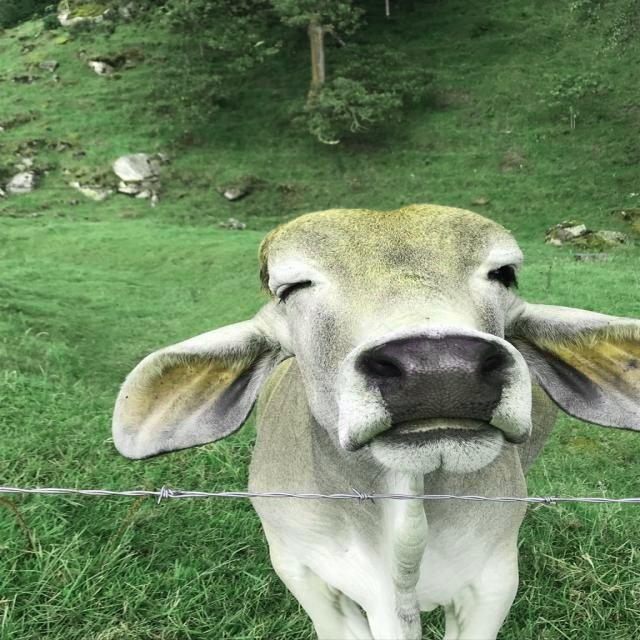cow: (112, 205, 640, 496), (254, 498, 525, 640)
